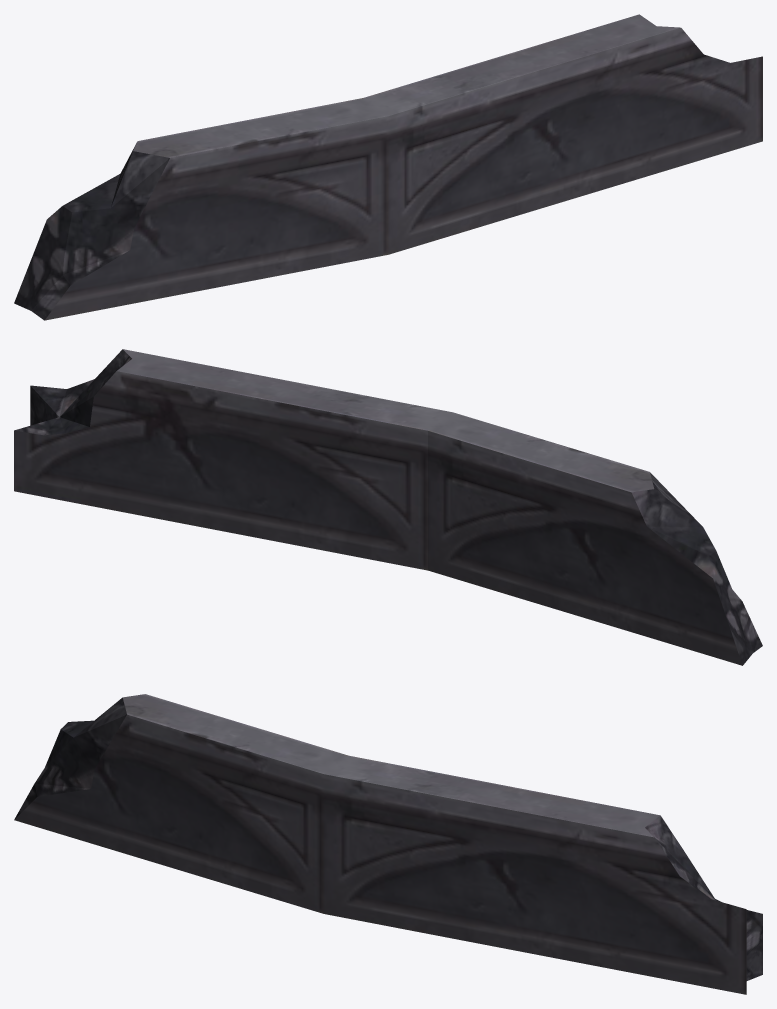
The model's file is BOSS_Wall_03.FBX.
The picture shows the model from 3 angles, top to bottom: view 1: azimuth 30°, elevation 25°; view 2: azimuth 150°, elevation 25°; view 3: azimuth 330°, elevation 25°; orthographic projection.
Visible parts, largest first — view 1: BOSS_Wall_03; view 2: BOSS_Wall_03; view 3: BOSS_Wall_03.
Boxes of the visible parts, x1=… form: BOSS_Wall_03: x1=14, y1=14, x2=762, y2=320; BOSS_Wall_03: x1=14, y1=349, x2=762, y2=665; BOSS_Wall_03: x1=14, y1=694, x2=762, y2=994.
Bounding box in the file's own units: 5.1 × 0.9284 × 0.5715.
